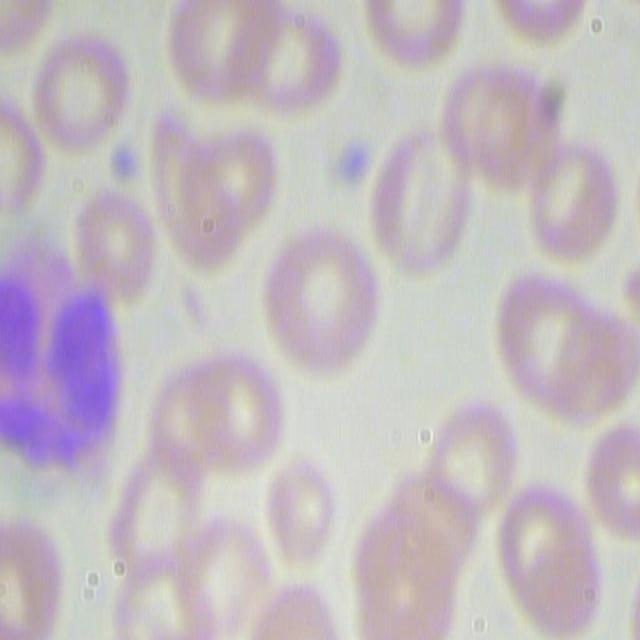RBC: (154, 78, 280, 268), (497, 266, 632, 435), (154, 336, 294, 488), (262, 225, 382, 380), (352, 484, 468, 638), (494, 480, 606, 638), (433, 60, 561, 198), (360, 134, 472, 286), (101, 444, 218, 580), (229, 2, 347, 127), (28, 30, 131, 161), (419, 394, 521, 522), (518, 135, 620, 262), (162, 2, 276, 112), (261, 452, 342, 567), (76, 187, 154, 294), (361, 0, 471, 73), (112, 565, 216, 640), (586, 419, 640, 545), (0, 529, 65, 630), (0, 102, 45, 224), (491, 0, 595, 49), (246, 583, 336, 636), (0, 0, 54, 51)
WBC: (0, 256, 129, 505)
platelets: (328, 137, 375, 200), (102, 136, 144, 197)
